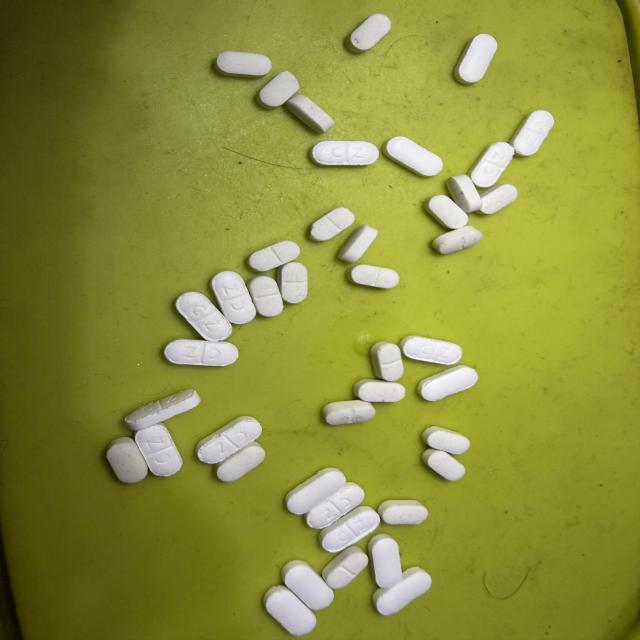pill: (125, 389, 200, 430), (196, 417, 262, 463), (373, 567, 431, 615), (286, 468, 346, 514), (176, 292, 232, 341), (319, 507, 379, 552), (306, 482, 364, 528), (264, 586, 316, 636), (282, 561, 333, 610), (135, 423, 182, 476), (211, 271, 256, 324), (384, 137, 443, 176), (454, 34, 497, 84), (418, 366, 478, 401), (469, 142, 514, 187), (511, 110, 554, 156), (216, 442, 265, 481), (165, 340, 238, 366), (323, 547, 368, 589), (107, 437, 147, 483), (368, 534, 402, 588), (286, 94, 334, 132), (400, 336, 462, 364), (347, 14, 391, 52), (312, 141, 379, 165), (249, 241, 300, 271), (258, 71, 299, 108), (424, 195, 468, 229), (338, 225, 377, 263), (215, 51, 271, 77), (310, 208, 354, 240), (248, 276, 283, 316), (433, 226, 482, 254), (422, 449, 465, 480), (323, 400, 375, 425), (422, 427, 470, 454), (447, 175, 481, 213), (371, 342, 403, 381), (378, 500, 428, 524), (278, 262, 307, 303), (348, 265, 399, 288), (353, 380, 405, 402), (479, 184, 517, 214)
